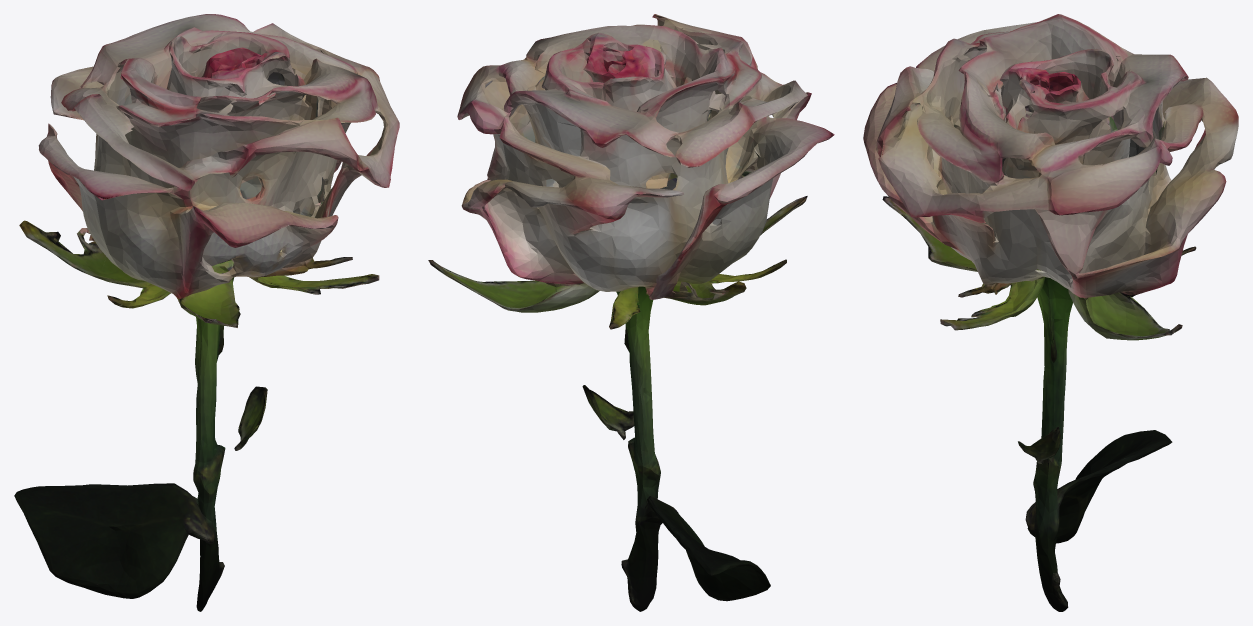
The picture shows the model from 3 angles, left to right: view 1: azimuth 30°, elevation 25°; view 2: azimuth 150°, elevation 25°; view 3: azimuth 270°, elevation 25°; orthographic projection.
Parts seen in each view (by area): view 1: world; view 2: world; view 3: world.
Part boxes in pixels (bbox=[...]): world: bbox=[14, 14, 399, 611]; world: bbox=[428, 14, 834, 611]; world: bbox=[863, 14, 1238, 611].
Bounding box in the file's own units: 0.5801 × 0.9402 × 0.5714.
Materials: 1 (1 with a texture image).
